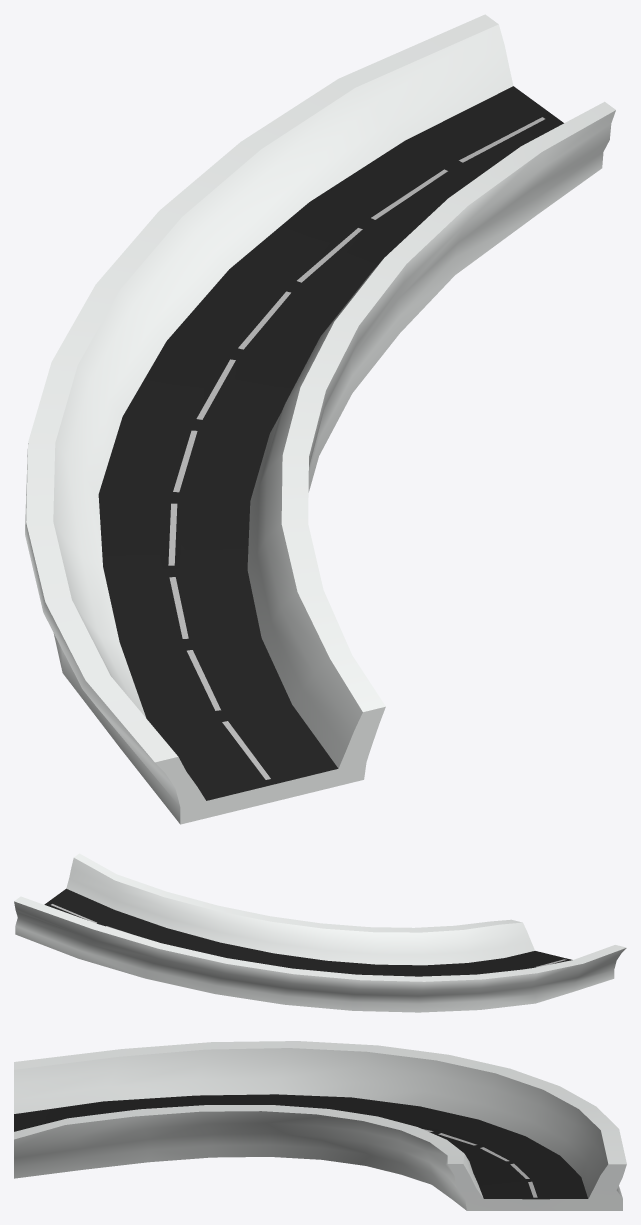
The model's file is duogn len doc dai.fbx.
3 renders of one model, top to bottom at view 1: azimuth 30°, elevation 25°; view 2: azimuth 150°, elevation 25°; view 3: azimuth 270°, elevation 25°, orthographic. The views are drawn at different scales.
Visible parts, largest first — view 1: duong_len_doc_dai; view 2: duong_len_doc_dai; view 3: duong_len_doc_dai.
Part boxes in pixels (left/top/right/bottom): duong_len_doc_dai: left=25, top=14, right=615, bottom=824; duong_len_doc_dai: left=14, top=853, right=626, bottom=1012; duong_len_doc_dai: left=14, top=1041, right=626, bottom=1210.
Bounding box in the file's own units: 70.68 × 25.94 × 70.45.
1 material, 1 textured.
